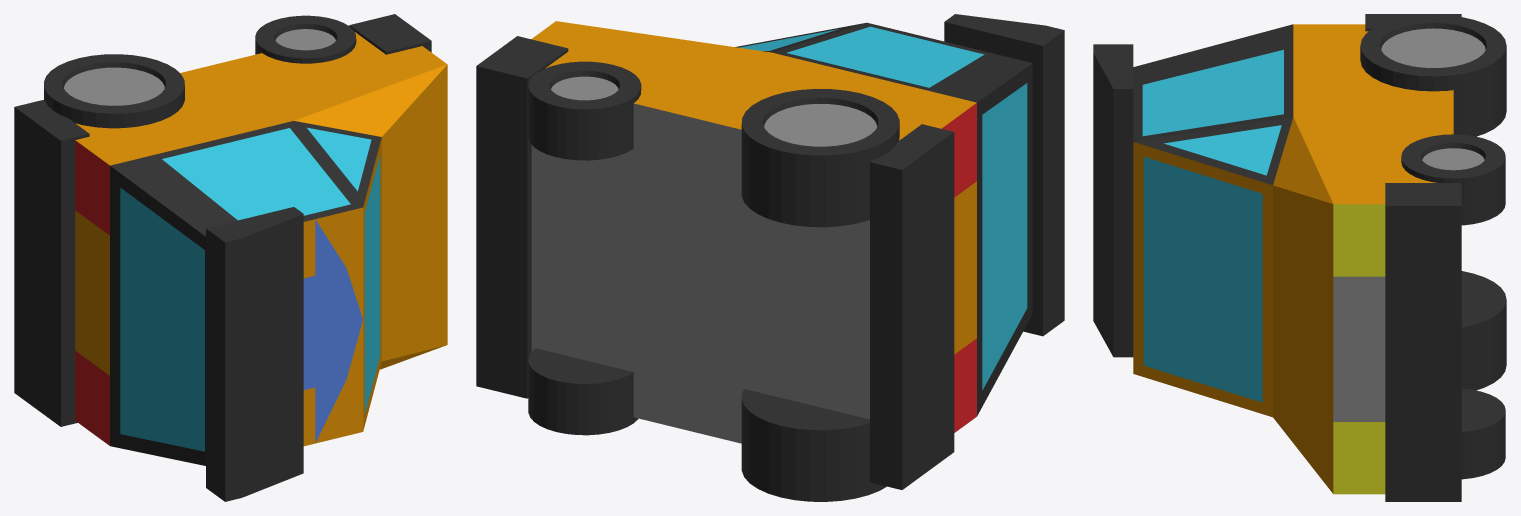
Rendered from Poki_Car_space_cars_01_Smallcar01.glb.
3 views of the same model, side by side, from view 1: azimuth 30°, elevation 25°; view 2: azimuth 150°, elevation 25°; view 3: azimuth 270°, elevation 25° (orthographic). The views are drawn at different scales.
Parts seen in each view (by area): view 1: ESCAPARK_smallcar_01; view 2: ESCAPARK_smallcar_01; view 3: ESCAPARK_smallcar_01.
Part boxes in pixels (bbox=[...]): ESCAPARK_smallcar_01: bbox=[14, 14, 447, 501]; ESCAPARK_smallcar_01: bbox=[476, 14, 1064, 501]; ESCAPARK_smallcar_01: bbox=[1093, 14, 1506, 501].
Bounding box in the file's own units: 9.94 × 7.72 × 9.04.
Materials: 1 (1 with a texture image).
